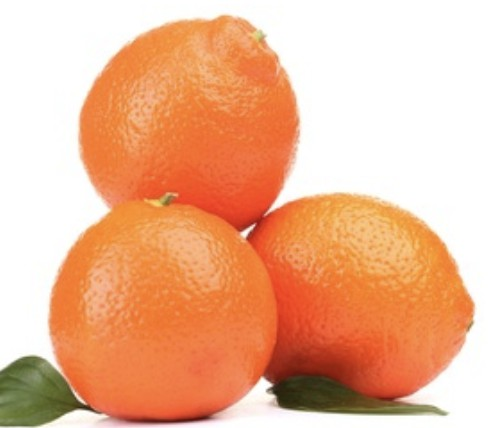fresh_orange: (49, 199, 280, 424), (241, 189, 477, 407), (80, 13, 300, 233)
